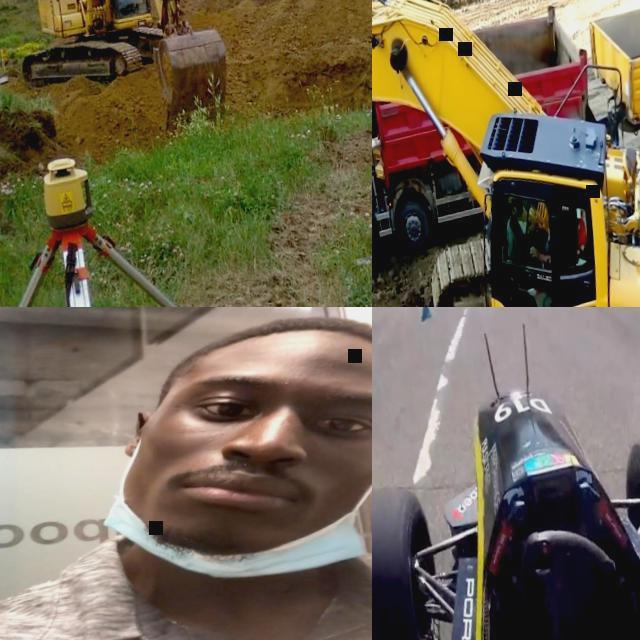machinery: (372, 0, 640, 307), (372, 0, 608, 269), (0, 0, 235, 145)
no_helmet: (166, 307, 372, 398)
no_mask: (122, 415, 372, 561)
no_vest: (0, 522, 372, 640), (544, 232, 552, 256)
person: (0, 307, 372, 640), (512, 205, 558, 296)
safety_cone: (416, 307, 435, 318)
vehicle: (372, 365, 640, 640)
vest: (572, 218, 590, 258)
